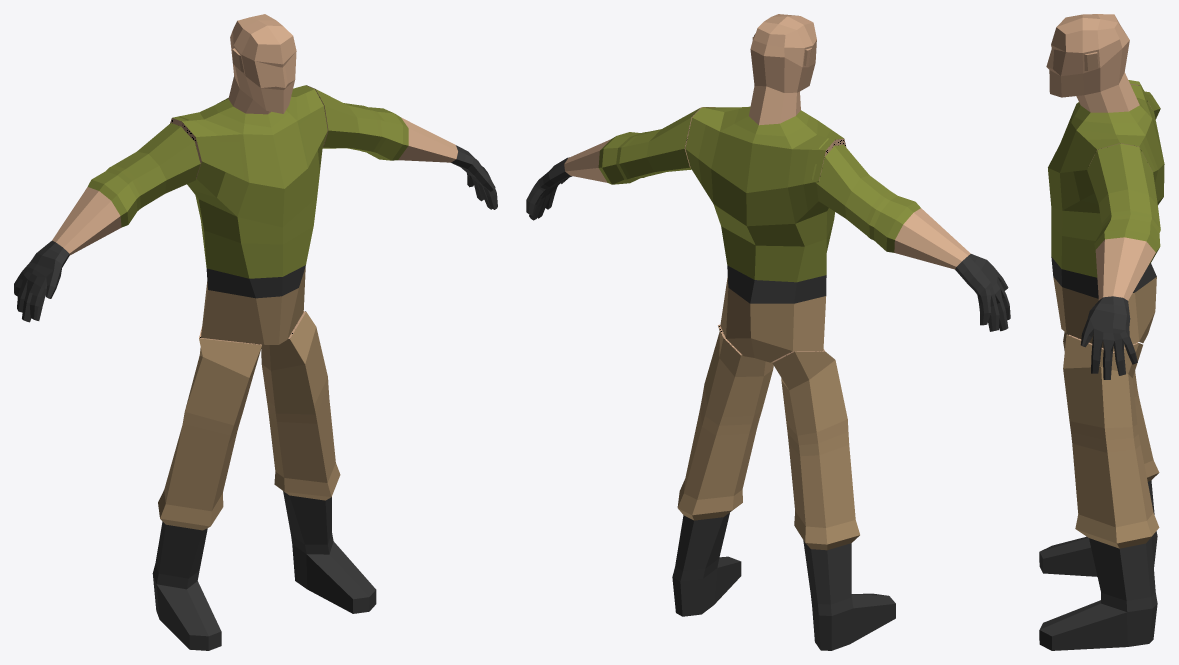
Rendered from man_new.glb.
3 views of the same model, side by side, from view 1: azimuth 30°, elevation 25°; view 2: azimuth 150°, elevation 25°; view 3: azimuth 270°, elevation 25° (orthographic).
Visible parts, largest first — view 1: man_body, man_left_leg, man_right_leg, man_left_hand, man_right_hand; view 2: man_body, man_left_leg, man_right_leg, man_left_hand, man_right_hand; view 3: man_right_leg, man_body, man_right_hand, man_left_leg.
Boxes of the visible parts, bbox=[...] form: man_body: bbox=[170, 14, 327, 344]; man_left_leg: bbox=[152, 326, 262, 650]; man_right_leg: bbox=[261, 311, 376, 613]; man_left_hand: bbox=[14, 116, 200, 322]; man_right_hand: bbox=[306, 85, 497, 209]; man_body: bbox=[685, 14, 846, 362]; man_left_leg: bbox=[772, 349, 895, 650]; man_right_leg: bbox=[672, 324, 773, 616]; man_left_hand: bbox=[811, 138, 1010, 331]; man_right_hand: bbox=[526, 107, 714, 220]; man_right_leg: bbox=[1039, 334, 1159, 650]; man_body: bbox=[1046, 14, 1164, 351]; man_right_hand: bbox=[1080, 143, 1160, 379]; man_left_leg: bbox=[1039, 332, 1159, 576].
Bounding box in the file's own units: 1.53 × 1.84 × 0.3535.
Materials: 1 (1 with a texture image).
